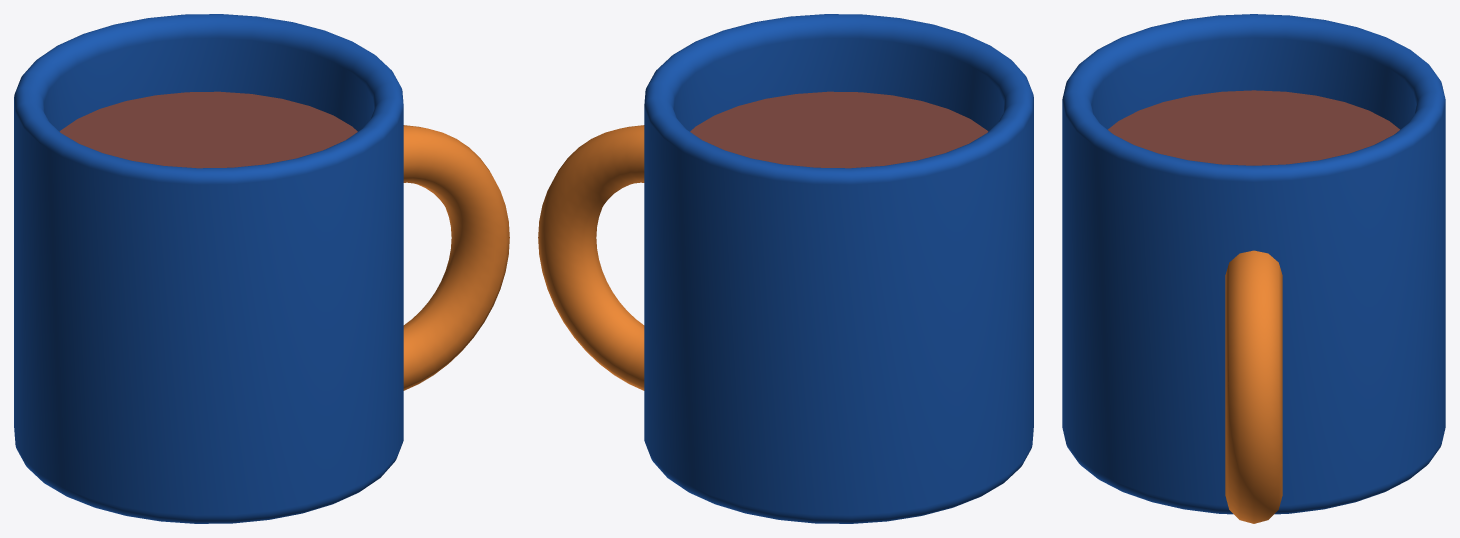
Rendered from cup.glb.
3 views of the same model, side by side, from view 1: azimuth 30°, elevation 25°; view 2: azimuth 150°, elevation 25°; view 3: azimuth 270°, elevation 25° (orthographic).
Parts seen in each view (by area): view 1: 円柱, トーラス; view 2: 円柱, トーラス; view 3: 円柱, トーラス.
Boxes of the visible parts, x1=… form: 円柱: x1=14, y1=14, x2=403, y2=523; トーラス: x1=403, y1=125, x2=509, y2=390; 円柱: x1=644, y1=14, x2=1033, y2=523; トーラス: x1=538, y1=125, x2=644, y2=390; 円柱: x1=1062, y1=14, x2=1445, y2=514; トーラス: x1=1225, y1=250, x2=1282, y2=523.
Size of what is drawn, in the model's own units: 2.76 by 2 by 2.
